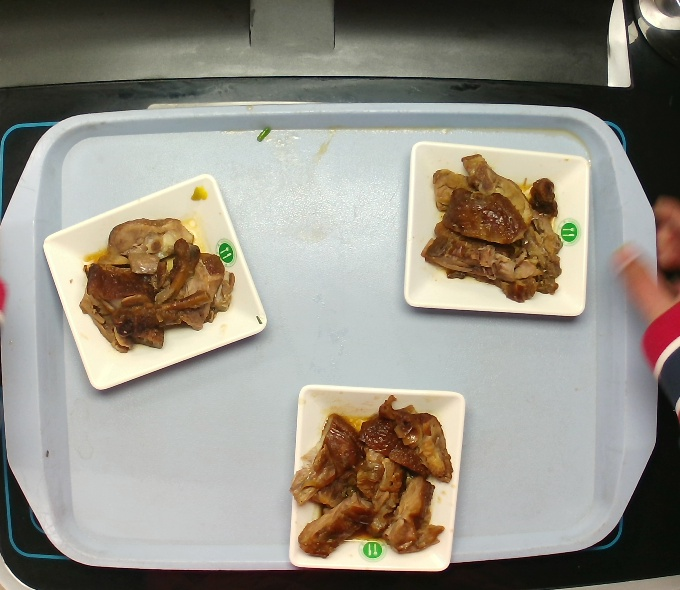wcq-YaRou: (291, 383, 452, 562), (74, 203, 233, 353), (420, 148, 569, 302)
